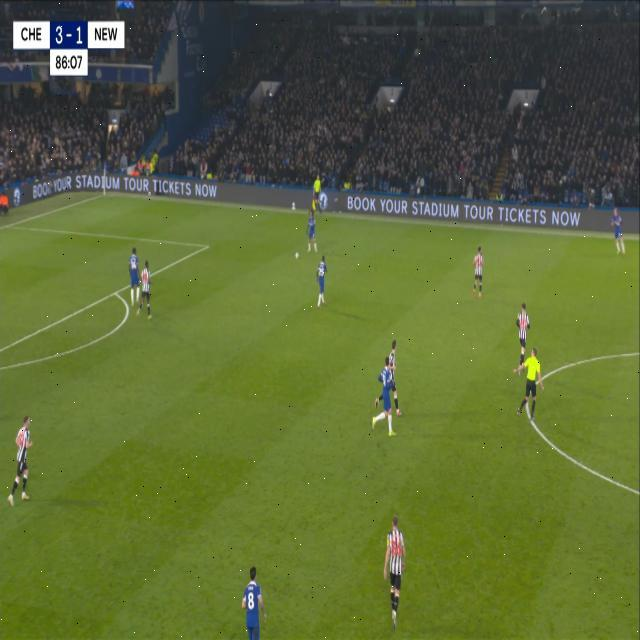Ball: (294, 250, 300, 260)
Chelsea: (370, 337, 404, 442), (238, 562, 268, 636), (313, 250, 330, 310), (610, 204, 626, 253), (306, 206, 320, 258), (128, 245, 140, 305)
Newcastle: (382, 511, 408, 634), (6, 408, 31, 511), (138, 259, 154, 320), (515, 300, 526, 370), (473, 243, 485, 298)
Refree: (512, 342, 546, 425)
